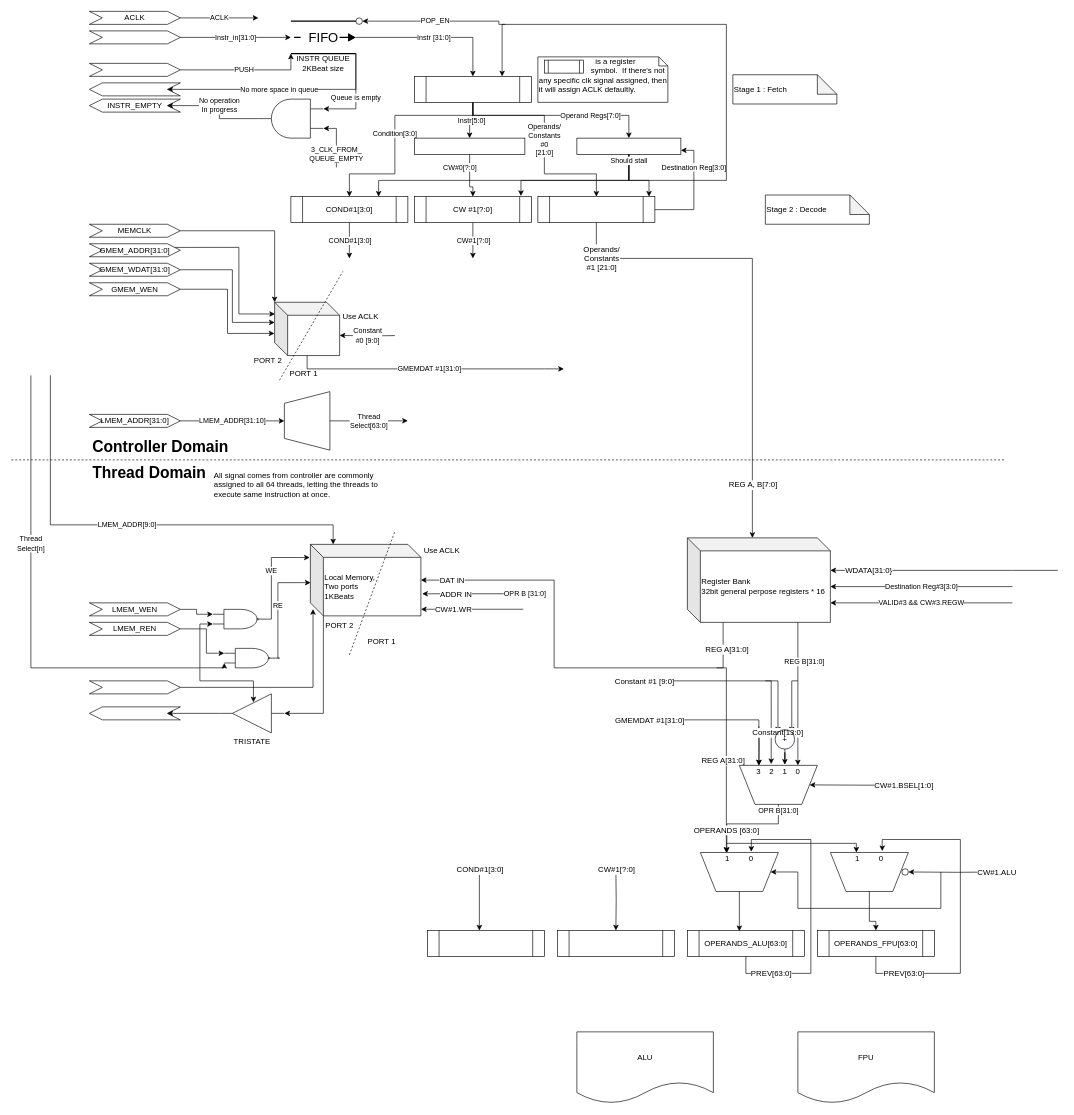
Some shapes in this 1074 by 1115 pixel diagram are drawn without their labels. Here are the shapes that lost their labels. From the top down, the centre of each, then its label:
At pixel 134 37: "INSTR[31:0]".
At pixel 134 69: "INSTR_CLK".
At pixel 134 89: "INSTR_FULL".
At pixel 472 89: "Fetched Instruction [31:0]".
At pixel 469 145: "Instruction decoder".
At pixel 628 145: "Bubble Generator".
At pixel 596 209: "Operands/Constants #1[21:0]".
At pixel 307 329: "Constant Memory, Two ports 500KBeats".
At pixel 307 420: "ADDR DECODER".
At pixel 134 687: "LMEM_WDAT[31:0]".
At pixel 134 713: "LMEM_RDAT[31:0]".
At pixel 485 943: "COND#2[3:0]".
At pixel 615 943: "CW #2 [?:0]".
